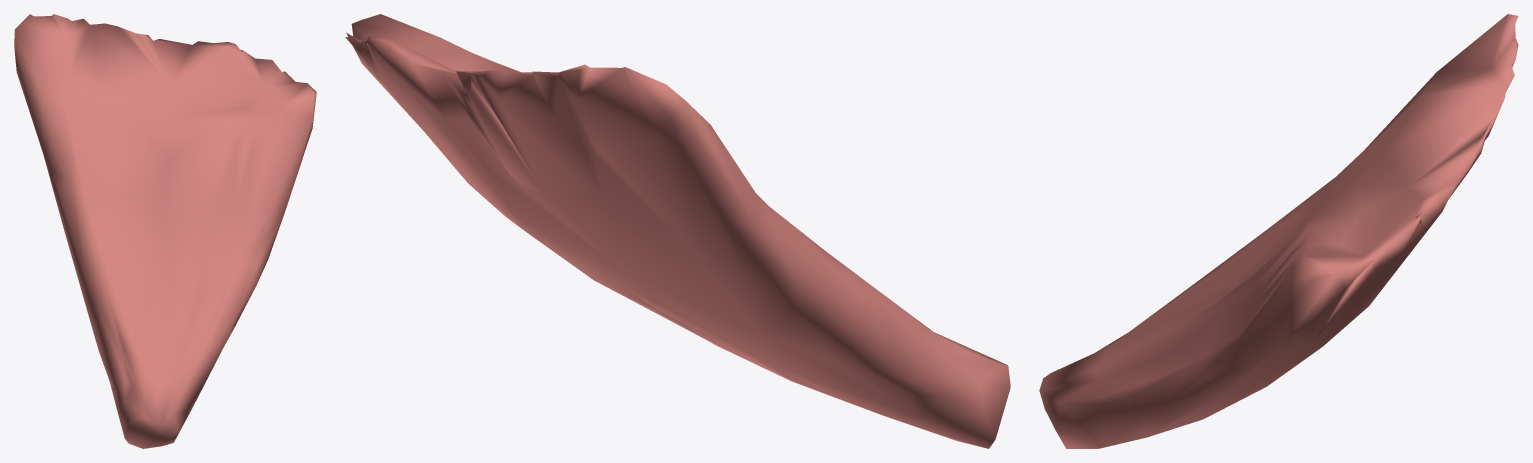
3 views of the same model, side by side, from view 1: azimuth 30°, elevation 25°; view 2: azimuth 150°, elevation 25°; view 3: azimuth 270°, elevation 25° (orthographic). The views are drawn at different scales.
Visible parts, largest first — view 1: ZA_64b72f4ef2b3fac8; view 2: ZA_64b72f4ef2b3fac8; view 3: ZA_64b72f4ef2b3fac8.
Part boxes in pixels (x1,y1,x2,y2): ZA_64b72f4ef2b3fac8: (14,14,316,448); ZA_64b72f4ef2b3fac8: (345,14,1010,448); ZA_64b72f4ef2b3fac8: (1039,14,1518,448).
Bounding box in the file's own units: 0.0236 × 0.026 × 0.0253.
